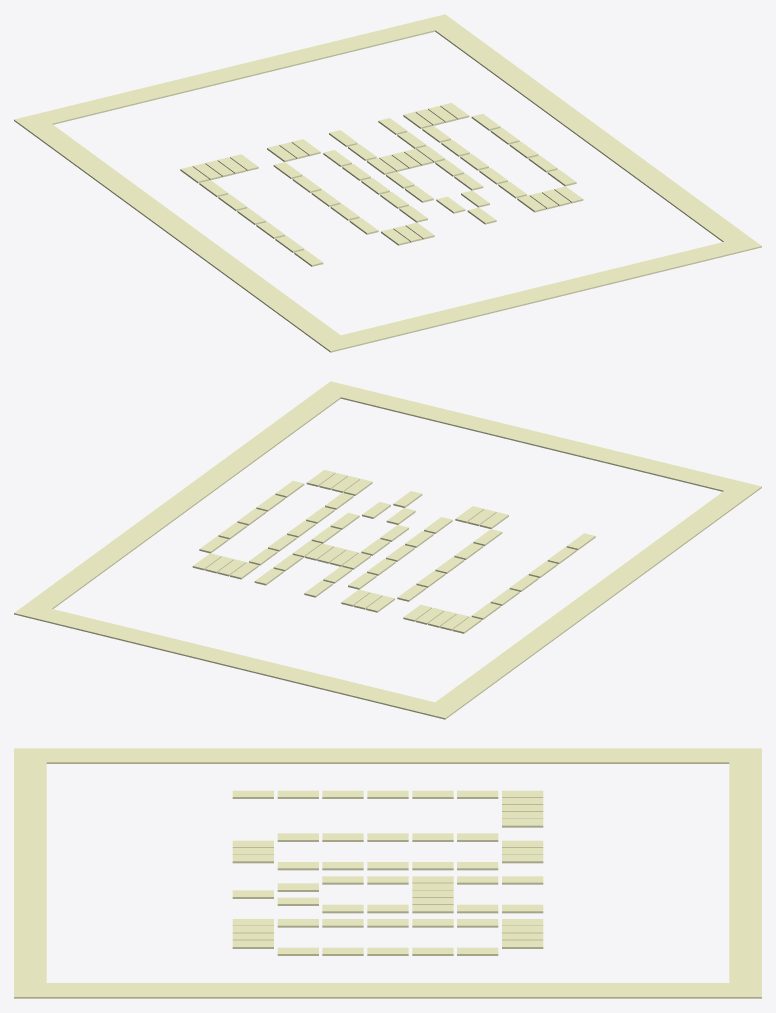
File: marking_loading_zone_box_white.glb
3 renders of one model, top to bottom at view 1: azimuth 30°, elevation 25°; view 2: azimuth 150°, elevation 25°; view 3: azimuth 270°, elevation 25°, orthographic. The views are drawn at different scales.
Visible parts, largest first — view 1: loading_zone_box_right, loading_zone_box_left, loading_zone_box_bottom, loading_zone_box_top; view 2: loading_zone_box_right, loading_zone_box_left, loading_zone_box_top, loading_zone_box_bottom; view 3: loading_zone_box_left, loading_zone_box_right, loading_zone_box_top, loading_zone_box_bottom.
Part boxes in pixels (left/top/right/bottom): loading_zone_box_right: left=435, top=24, right=747, bottom=241; loading_zone_box_left: left=28, top=124, right=340, bottom=341; loading_zone_box_bottom: left=316, top=236, right=761, bottom=352; loading_zone_box_top: left=14, top=14, right=458, bottom=130; loading_zone_box_right: left=28, top=391, right=340, bottom=608; loading_zone_box_left: left=435, top=491, right=747, bottom=708; loading_zone_box_top: left=14, top=603, right=459, bottom=719; loading_zone_box_bottom: left=317, top=381, right=761, bottom=497; loading_zone_box_left: left=46, top=748, right=729, bottom=763; loading_zone_box_right: left=46, top=983, right=729, bottom=998; loading_zone_box_top: left=729, top=748, right=761, bottom=998; loading_zone_box_bottom: left=14, top=748, right=46, bottom=998.
Size of the model in its own units: 1.62 by 0.006 by 2.06.
